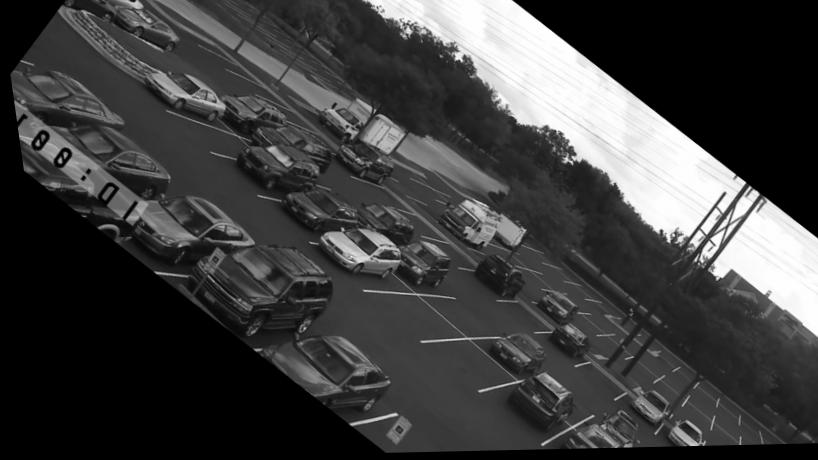empty: (339, 407, 455, 454), (357, 298, 450, 347), (413, 281, 492, 335), (423, 342, 502, 386), (164, 116, 243, 156), (560, 362, 616, 405), (349, 180, 401, 211), (211, 53, 258, 87), (390, 210, 438, 242), (544, 379, 583, 413), (490, 305, 538, 331), (236, 79, 280, 107), (270, 104, 311, 132), (666, 402, 699, 435), (425, 240, 465, 267), (408, 182, 450, 207), (611, 361, 650, 386), (582, 337, 621, 361), (313, 174, 350, 199), (640, 382, 673, 410), (647, 374, 677, 402), (598, 335, 633, 359), (699, 415, 727, 444), (675, 394, 702, 422), (507, 269, 541, 291), (694, 424, 725, 448), (658, 368, 689, 392), (482, 247, 517, 268), (624, 356, 655, 379), (576, 315, 608, 335), (566, 316, 595, 338), (505, 252, 536, 272), (528, 273, 558, 293), (683, 383, 706, 409), (642, 354, 670, 374), (555, 296, 586, 314), (579, 302, 613, 317), (704, 401, 726, 424), (518, 249, 546, 266), (511, 278, 531, 300), (556, 285, 586, 299), (727, 420, 744, 443), (538, 268, 565, 282), (574, 338, 593, 355), (696, 438, 716, 449), (749, 436, 764, 448), (727, 437, 743, 448)
occupied: (163, 248, 321, 335), (244, 334, 391, 408), (17, 125, 164, 195), (104, 199, 250, 254), (8, 67, 118, 126), (308, 227, 392, 285), (487, 374, 562, 433), (236, 143, 314, 197), (140, 73, 222, 123), (269, 190, 349, 232), (327, 134, 389, 188), (429, 200, 493, 250), (111, 6, 178, 53), (259, 124, 326, 170), (460, 256, 516, 303), (473, 335, 534, 378), (349, 203, 406, 248), (391, 242, 442, 291), (219, 95, 282, 133), (543, 421, 613, 451), (536, 325, 580, 361), (527, 291, 569, 327), (617, 393, 656, 428), (62, 0, 116, 24), (592, 413, 625, 450), (652, 423, 688, 449)
